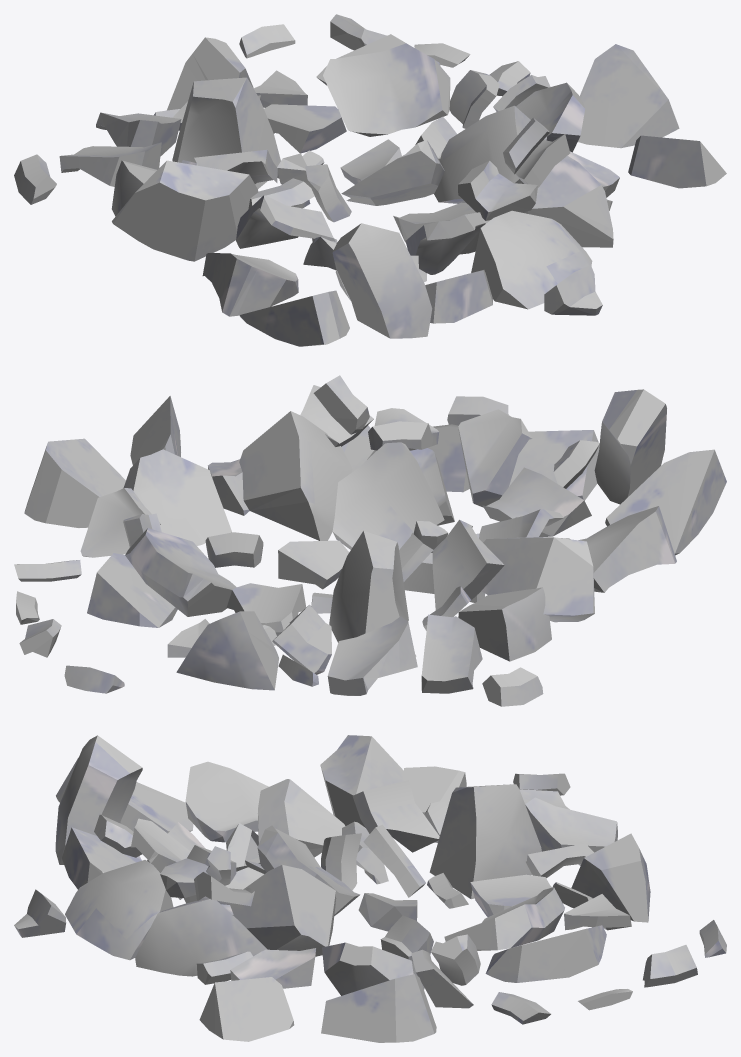
File: Vase_Rubble_Large.fbx
3 renders of one model, top to bottom at view 1: azimuth 30°, elevation 25°; view 2: azimuth 150°, elevation 25°; view 3: azimuth 270°, elevation 25°, orthographic. The views are drawn at different scales.
Visible parts, largest first — view 1: Vase_Rubble_Large; view 2: Vase_Rubble_Large; view 3: Vase_Rubble_Large.
Boxes of the visible parts, x1,y1,x2,y2 form: Vase_Rubble_Large: (14, 14, 726, 346); Vase_Rubble_Large: (14, 375, 726, 706); Vase_Rubble_Large: (14, 735, 726, 1042).
Bounding box in the file's own units: 89.09 × 18.04 × 101.
